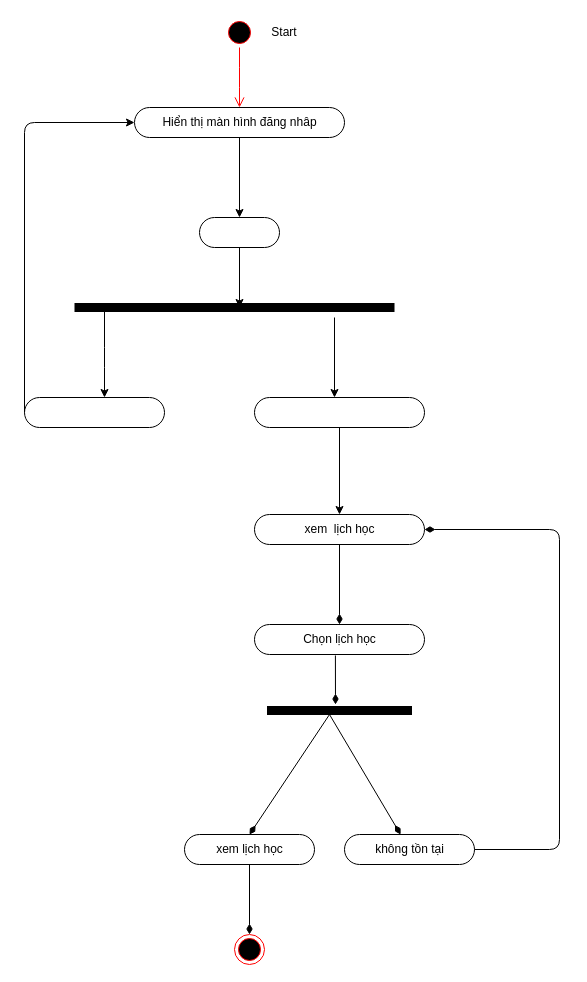
The diagram is 587 pixels wide and 982 high, and some of its shapes have lost their labels. Here are the shapes that lost their labels. From the top down, the centre of each, then its label:
At (x=239, y=232): "đăng nhập".
At (x=94, y=412): "đăng nhập thất bại".
At (x=339, y=412): "đăng nhập thành công".
